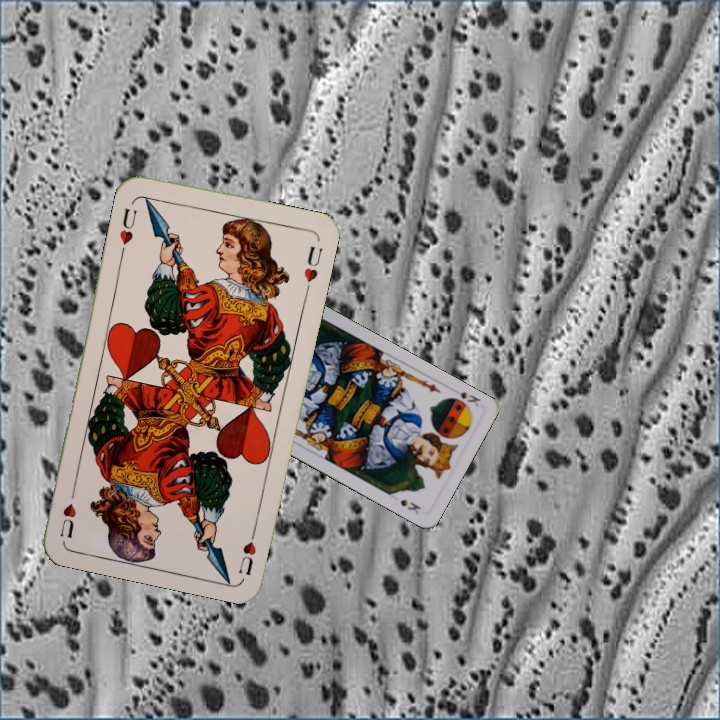HU: (235, 520, 260, 578), (115, 204, 140, 256)
SK: (456, 387, 483, 409)
